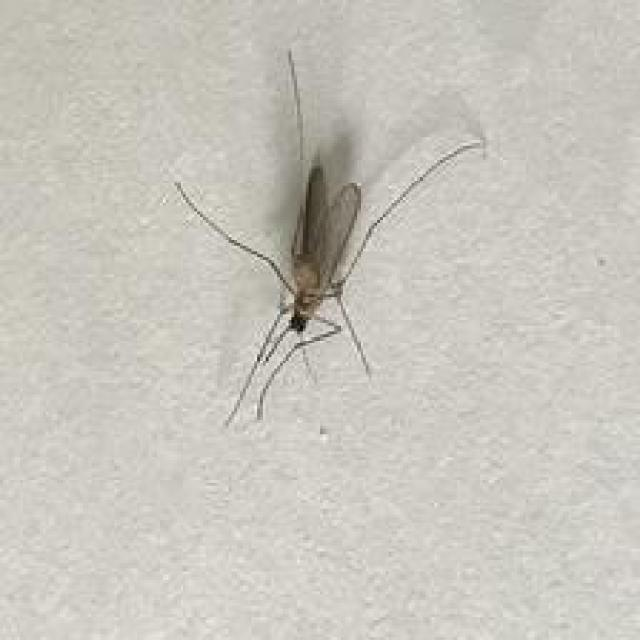Culex: (173, 47, 484, 427)
